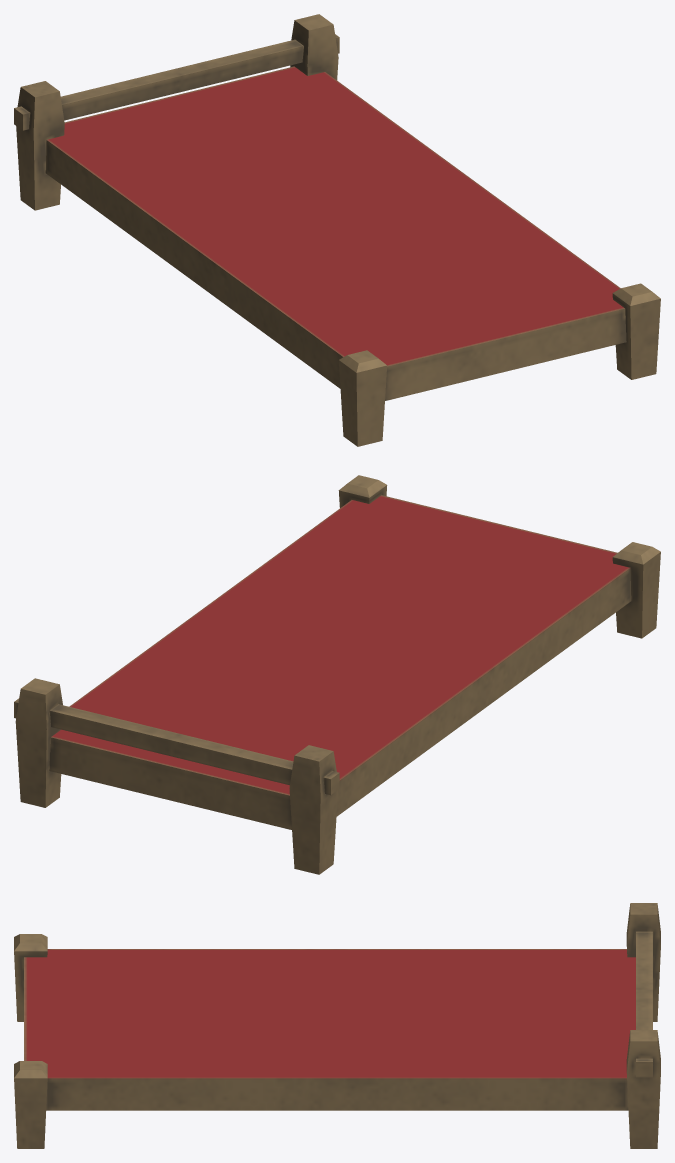
The model's file is lit.fbx.
3 views of the same model, one above another, from view 1: azimuth 30°, elevation 25°; view 2: azimuth 150°, elevation 25°; view 3: azimuth 270°, elevation 25° (orthographic). The views are drawn at different scales.
Visible parts, largest first — view 1: lit; view 2: lit; view 3: lit.
Part boxes in pixels (box(x1,y1,x2,y2)): lit: box(14, 14, 660, 446); lit: box(14, 475, 660, 874); lit: box(14, 903, 660, 1148).
Size of the model in its own units: 114 by 38.86 by 212.
1 material, 1 textured.
